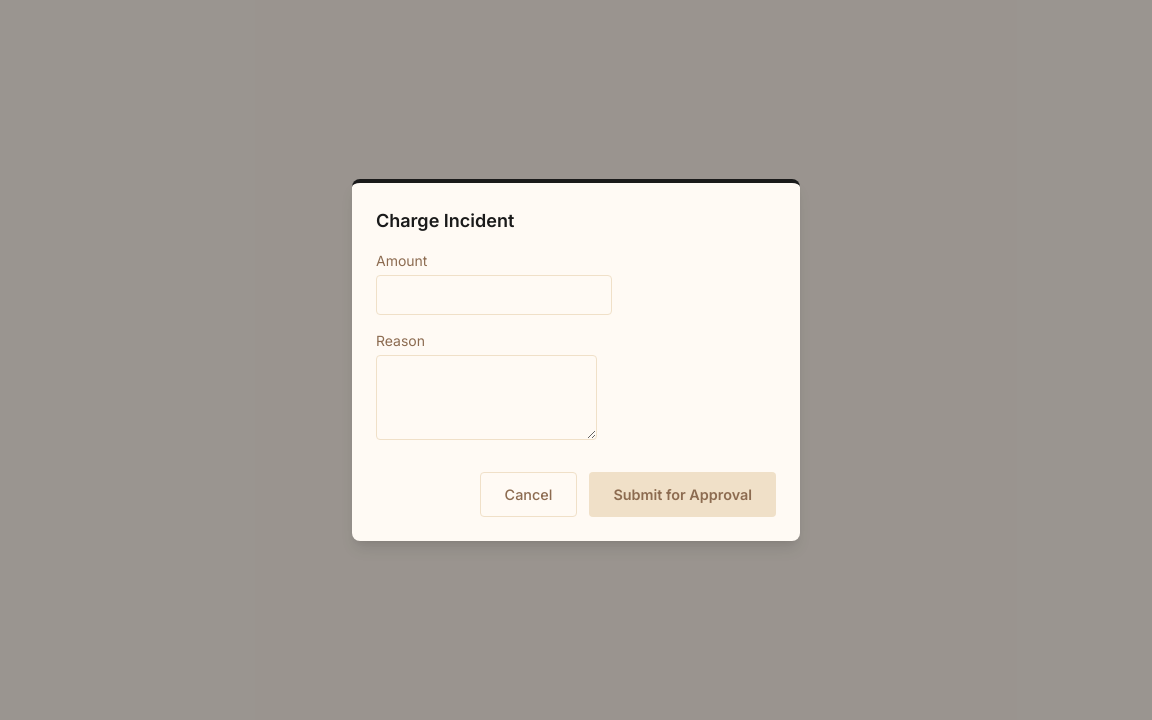
it: IncidentChargeRequestModal › shows a specific message when there is no card on file or the folio is not closed (409)
In the number field: coordinates (494, 295) top-left (376, 274), bottom-right (612, 315), type "20"
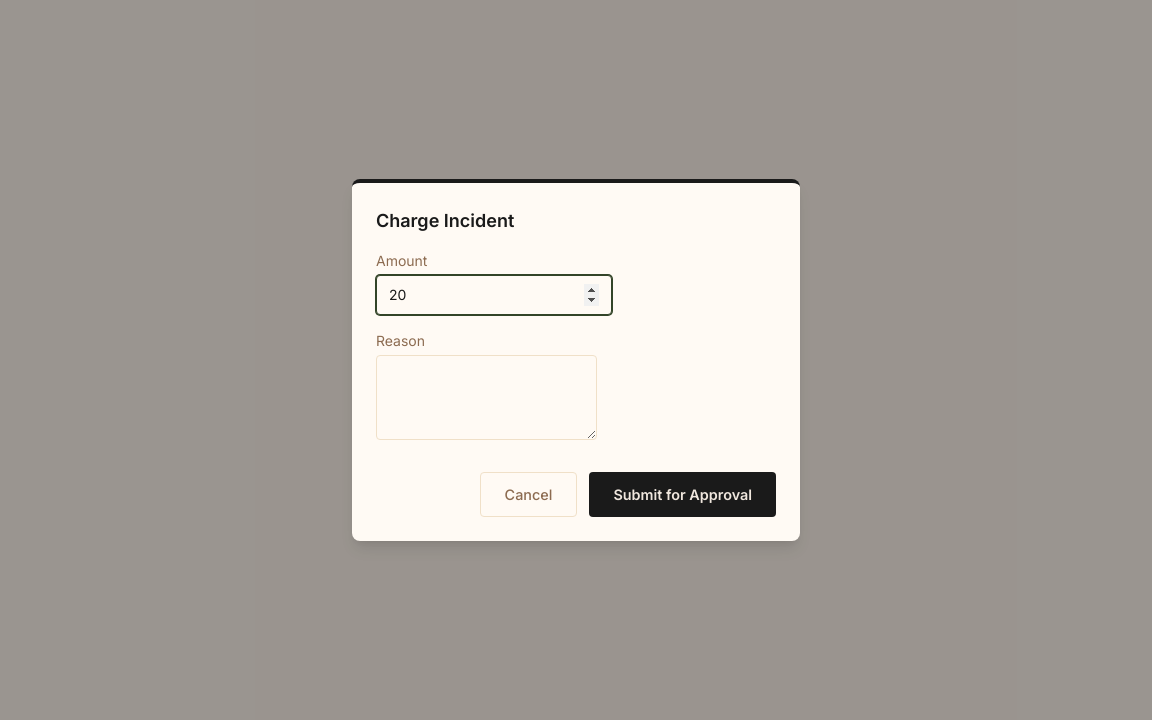
In the text box: coordinates (486, 398) top-left (376, 355), bottom-right (597, 440), type "Broken lamp"
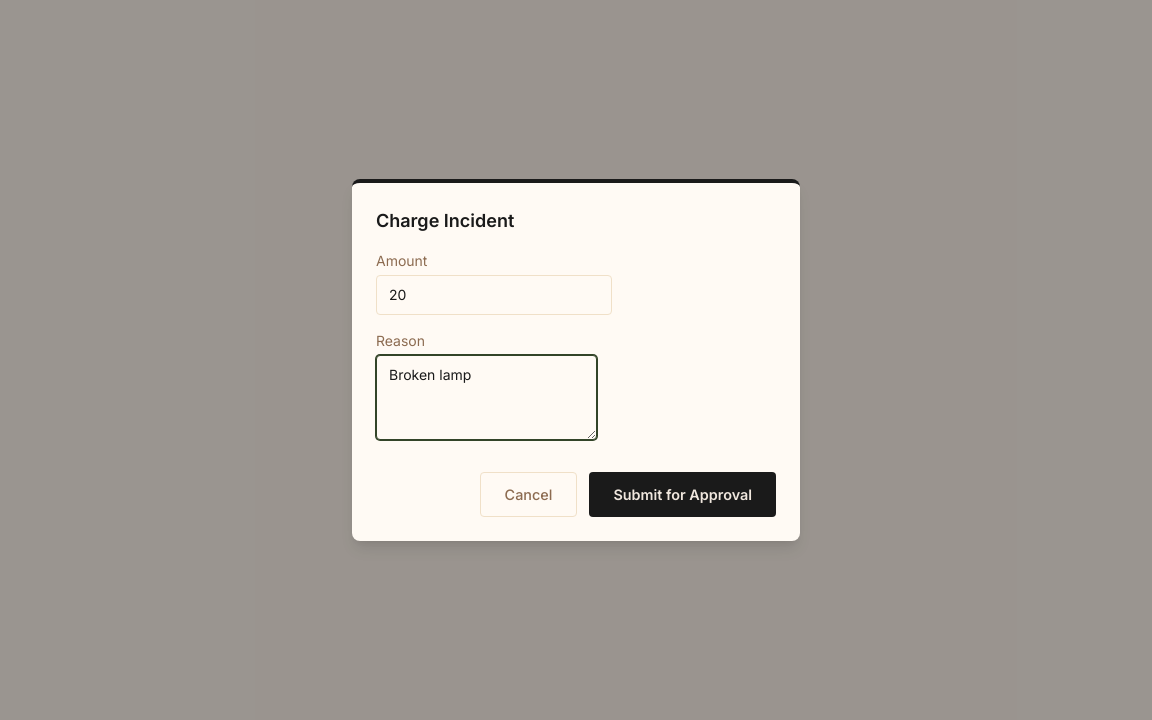
Click the button "Submit for Approval": coordinates (683, 495) top-left (589, 472), bottom-right (776, 518)
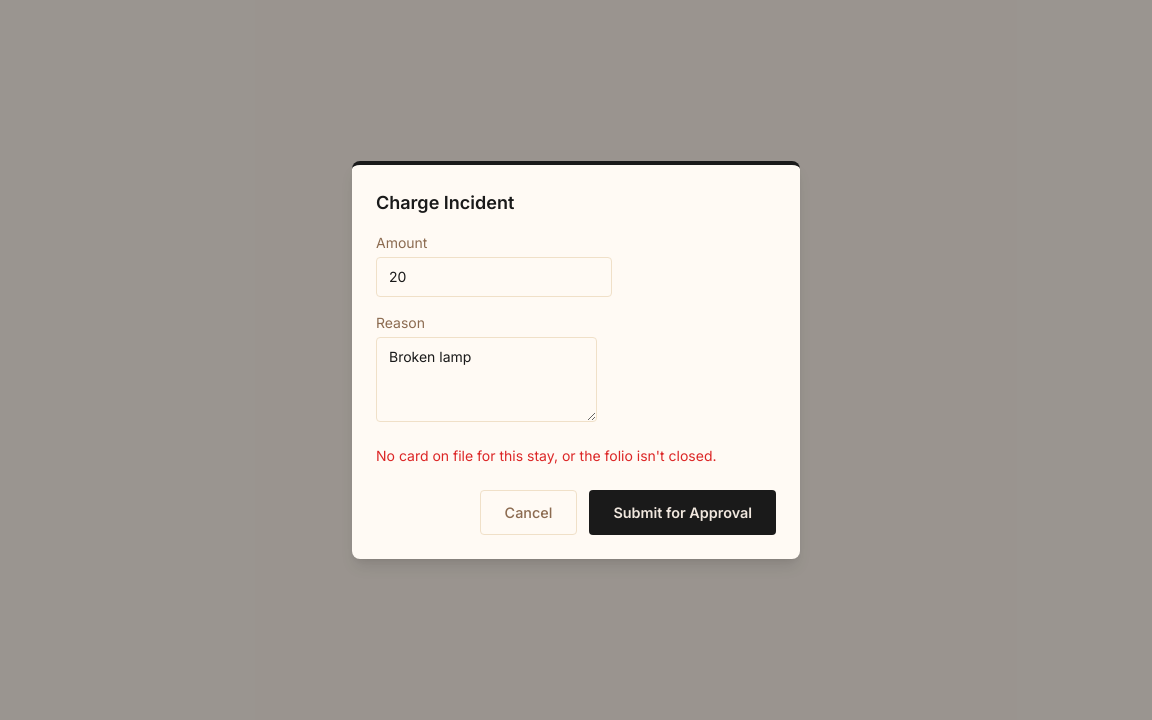
Expected: the text "No card on file for this stay, or the folio isn't closed." is shown, top-left (376, 446), bottom-right (776, 466)
